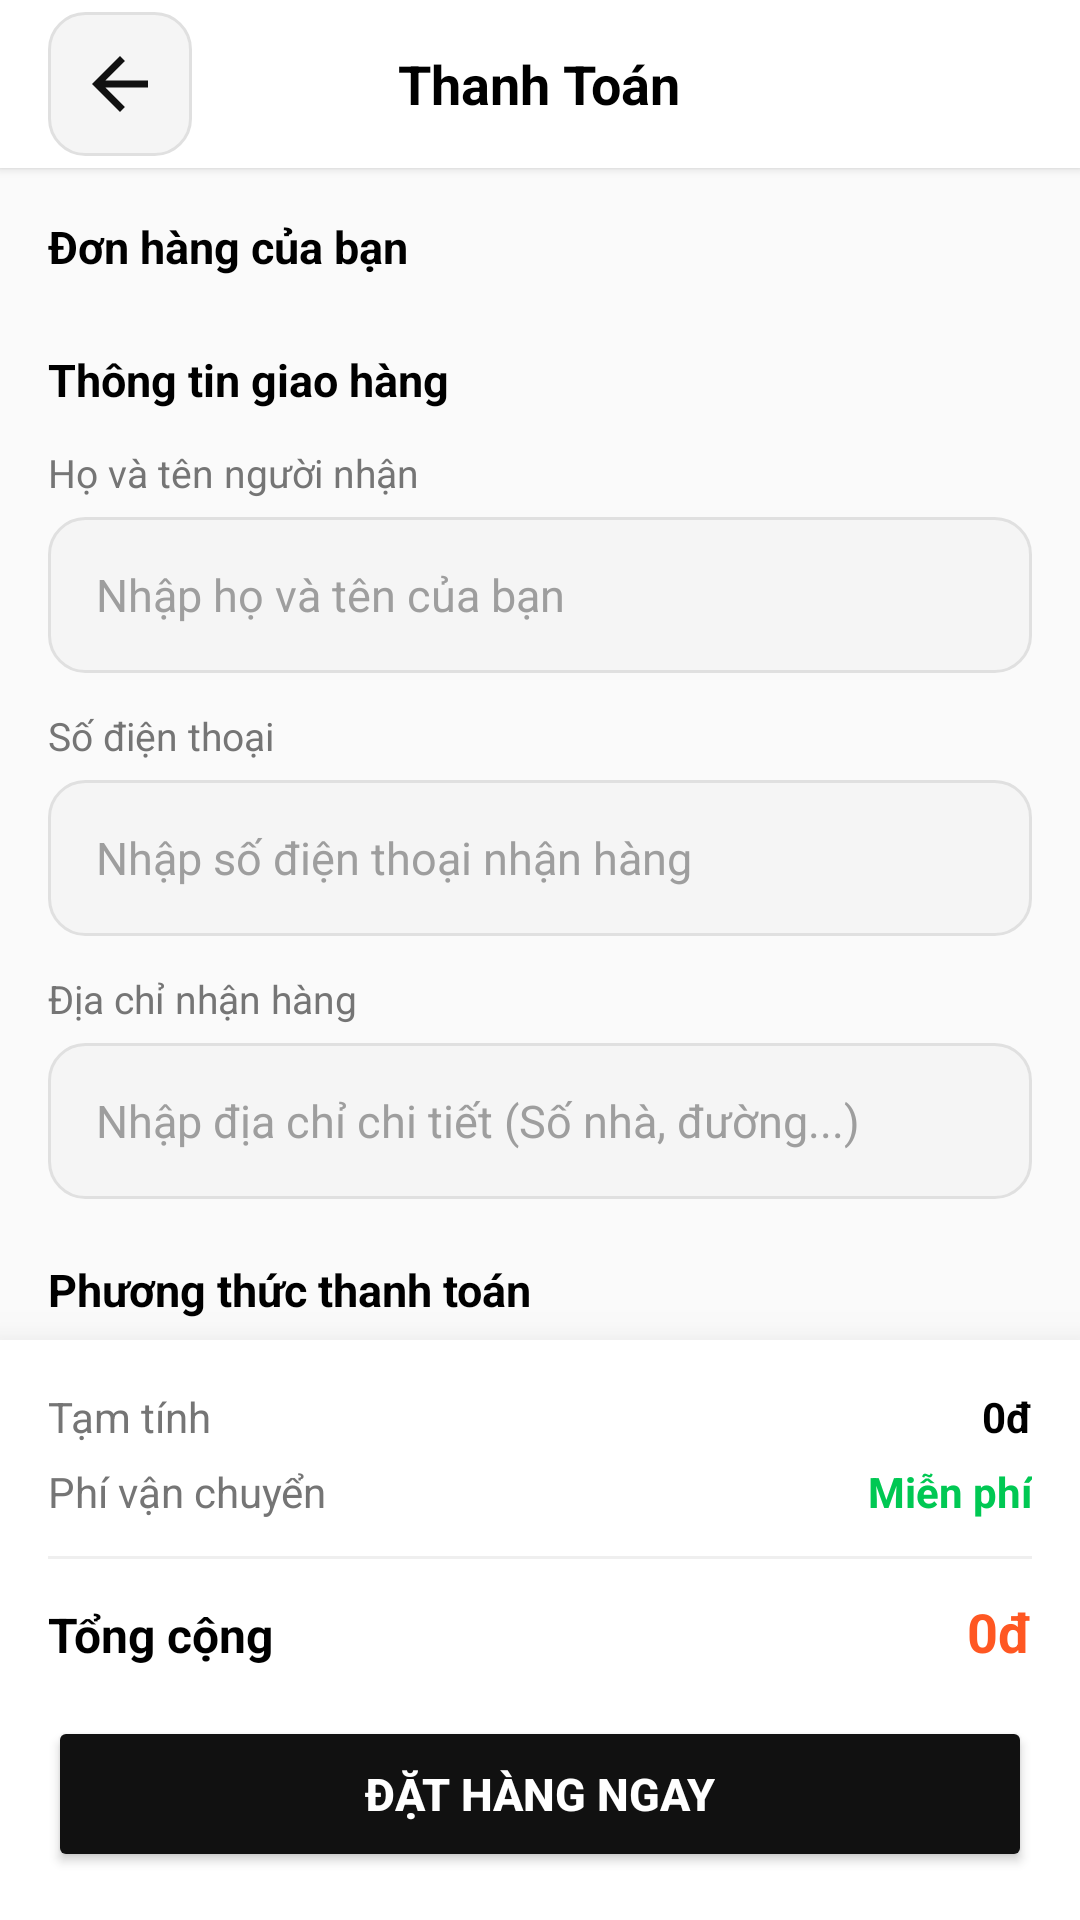

Icons on this 1080px×1920px Android screen, each with the point to tap as (x,y):
Quay lại: (120,84)
